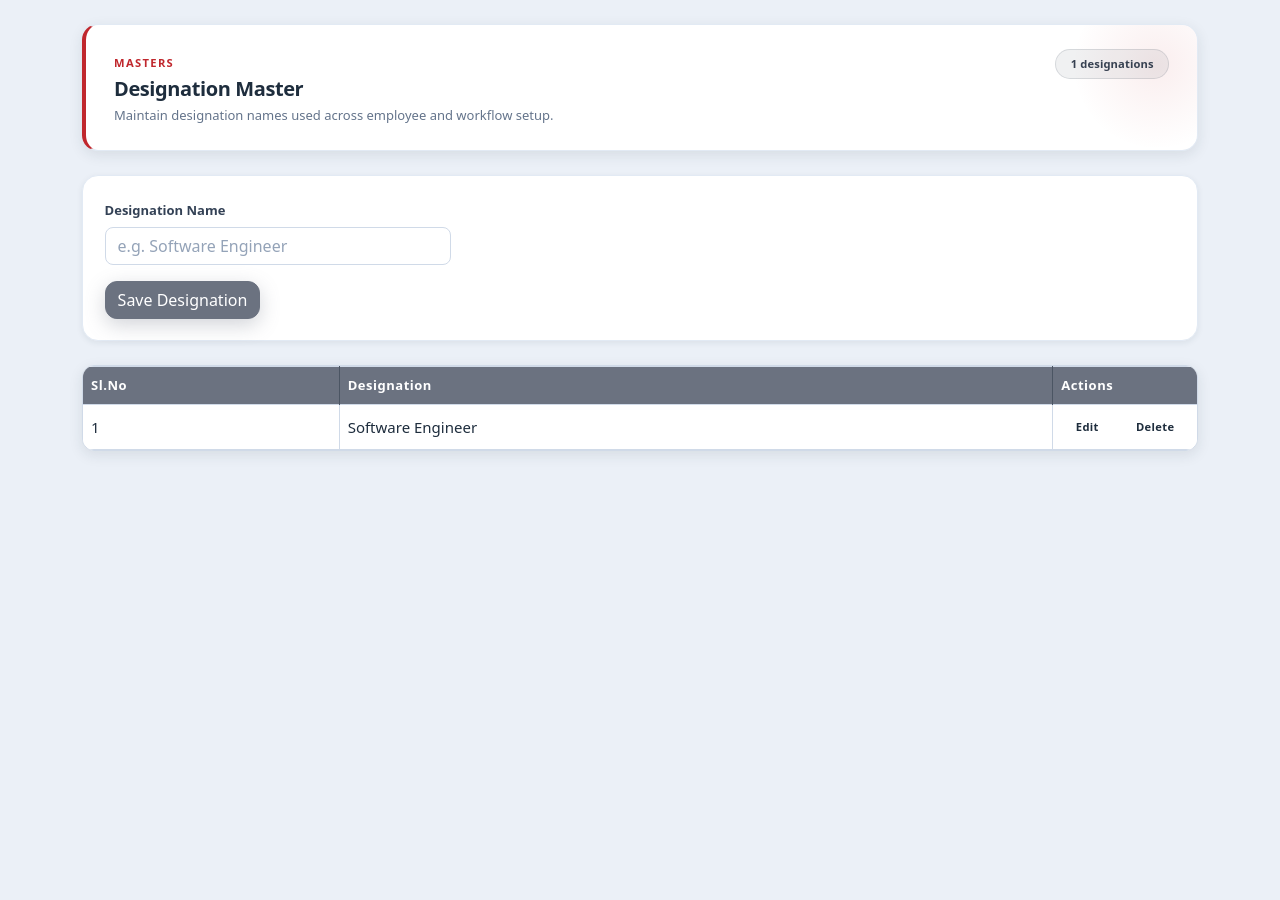
it: edit mode › shows success toast after updating a designation
expect the text "Software Engineer" is shown: met, box [339,405,1053,450]
Click the button "Edit".
click(1087, 427)  # box [1061,413,1114,442]
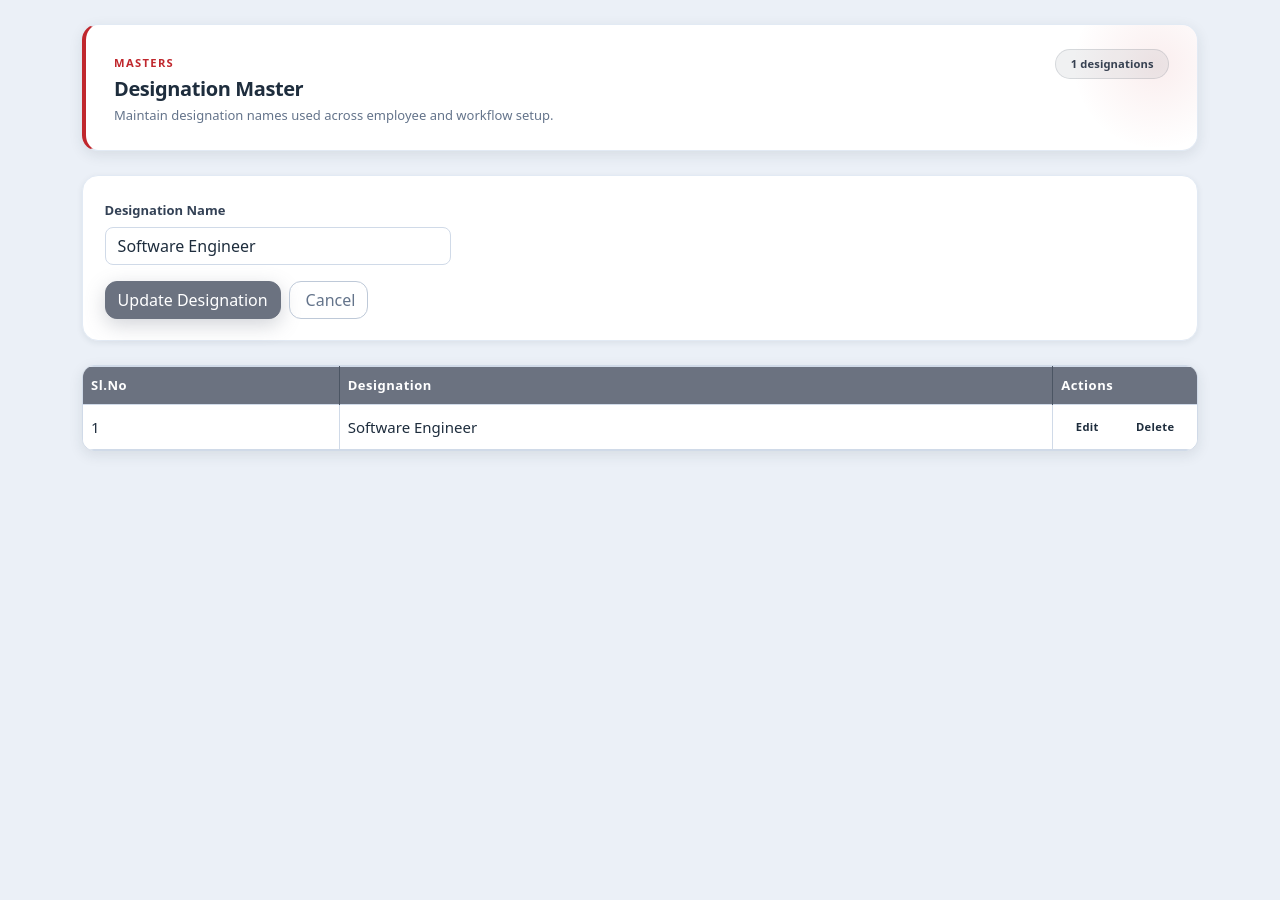
Replace the text in the field with placeholder "e.g. Software Engineer" with "Senior Engineer" at (278, 246), box [105,227,451,265]
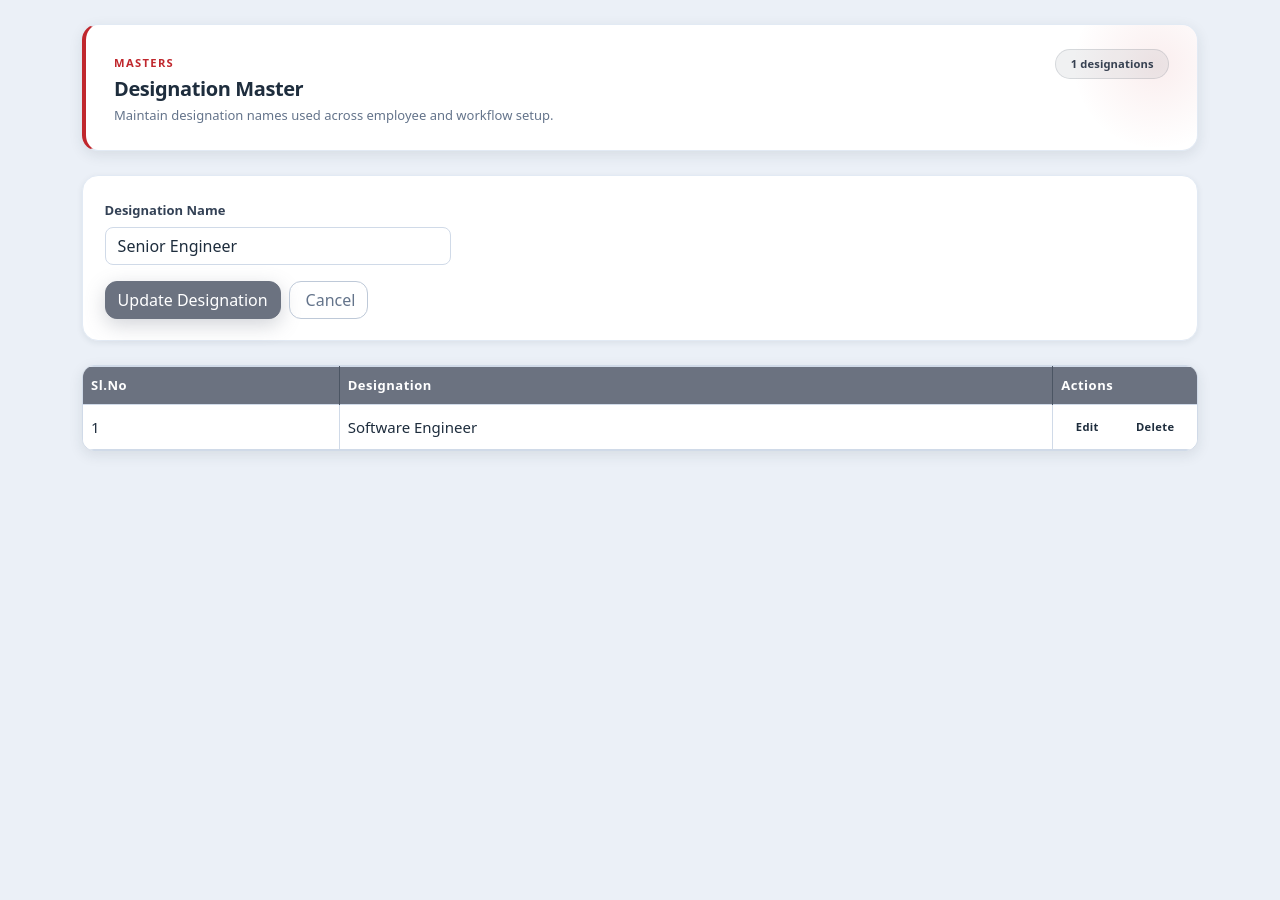
Click the button "Update Designation".
click(193, 300)  # box [105,281,281,319]
(page scrolled)
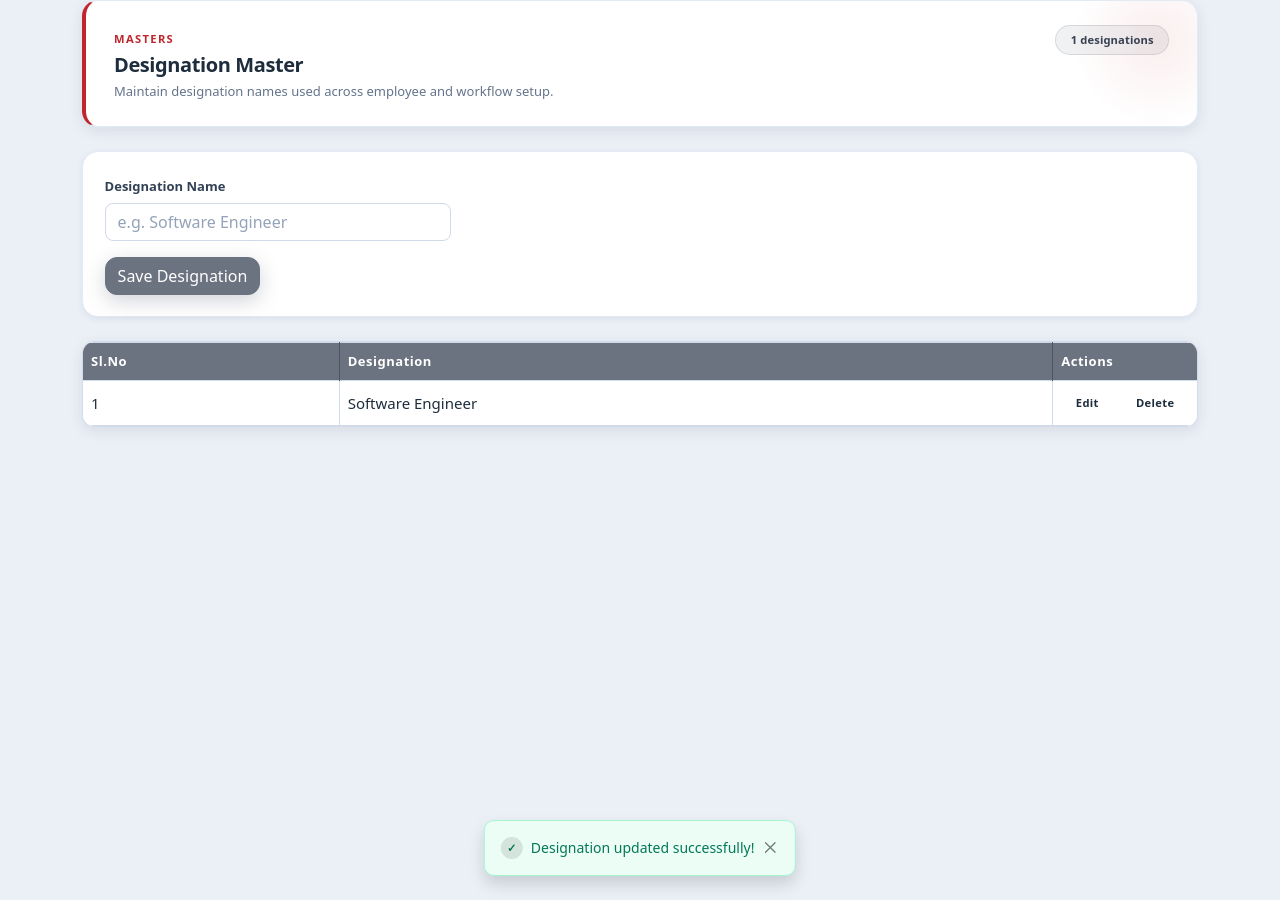
expect the text "Designation updated successfully!" is shown: met, box [531,837,754,859]
